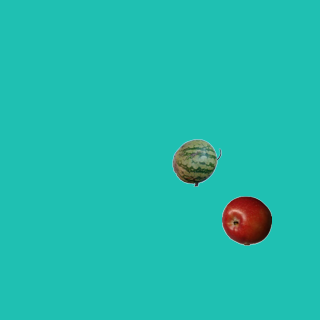Apple Braeburn: (221, 195, 271, 245)
Watermelon: (171, 137, 221, 187)
